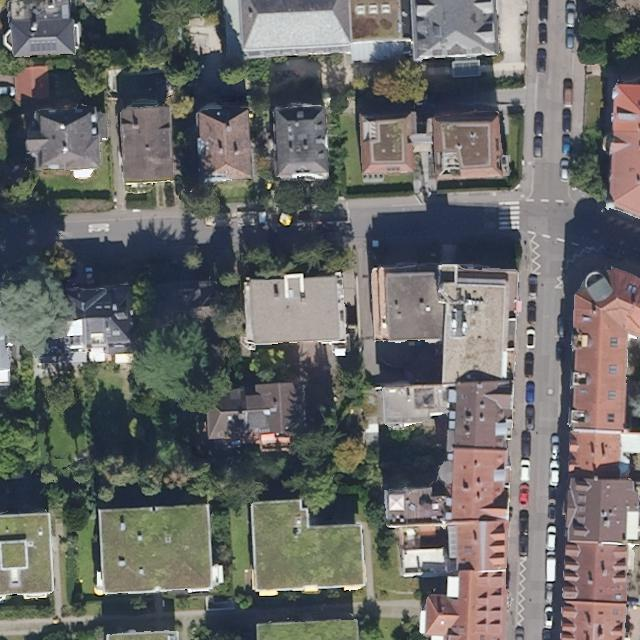PV: (26, 37, 64, 54)
